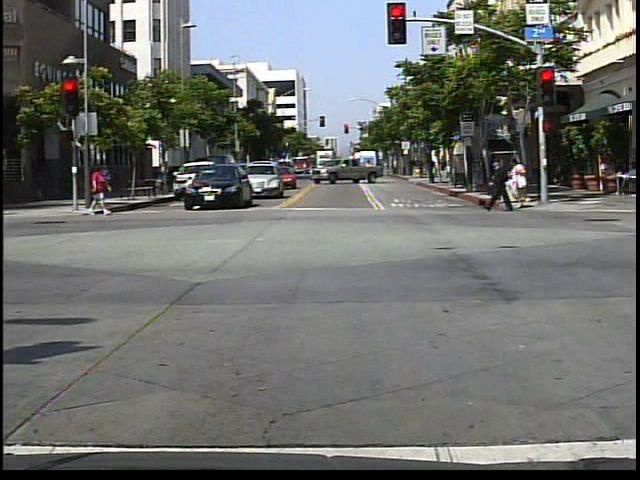person: (488, 157, 518, 216), (511, 151, 536, 215), (613, 151, 639, 196), (89, 161, 108, 220)
